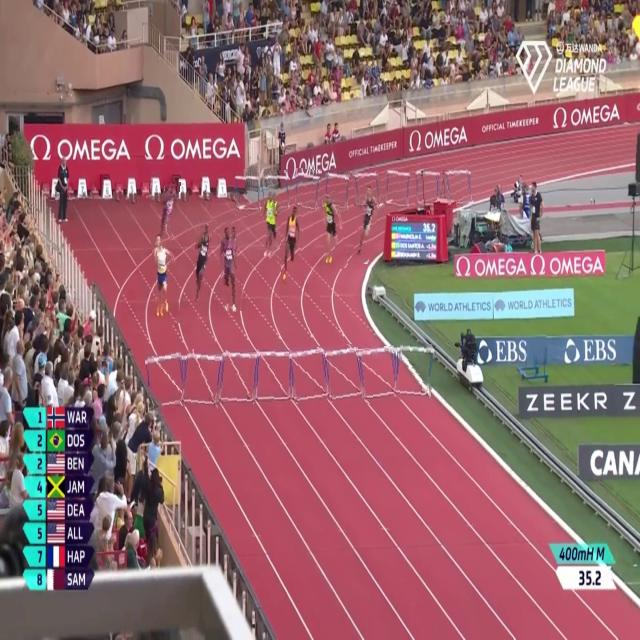athlete: (216, 220, 244, 312), (153, 233, 178, 325), (354, 185, 378, 264), (322, 191, 346, 270), (192, 218, 211, 304), (282, 204, 302, 284), (158, 181, 178, 247), (262, 186, 279, 261)
hurdle: (182, 350, 224, 410), (395, 341, 436, 400), (358, 346, 400, 403), (146, 353, 187, 407), (326, 344, 364, 402), (290, 347, 329, 403), (219, 351, 258, 405), (256, 350, 292, 402), (233, 167, 260, 216), (293, 168, 321, 214), (264, 169, 291, 214), (444, 165, 472, 208), (353, 168, 382, 205), (415, 169, 440, 210), (323, 169, 349, 208), (385, 168, 409, 210)
